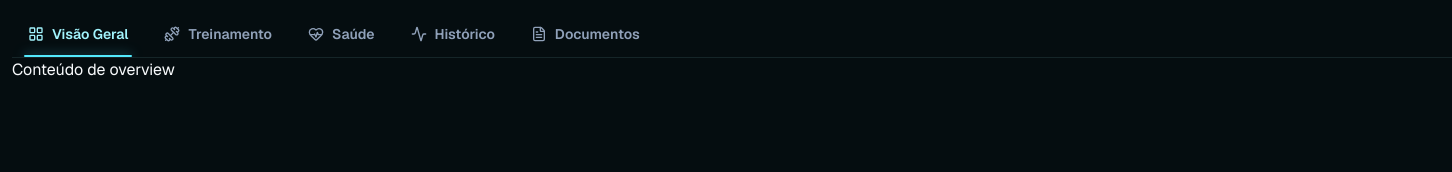
it: K9ProfileTabs — troca de conteúdo › clique troca o painel exibido
Click the tab "Saúde" at [341, 34], box [292,12,391,56]
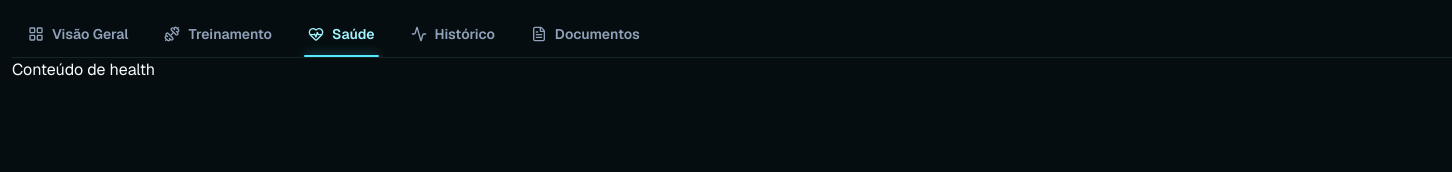
Expected: the panel reads "Conteúdo de health", [12,59,155,80]
